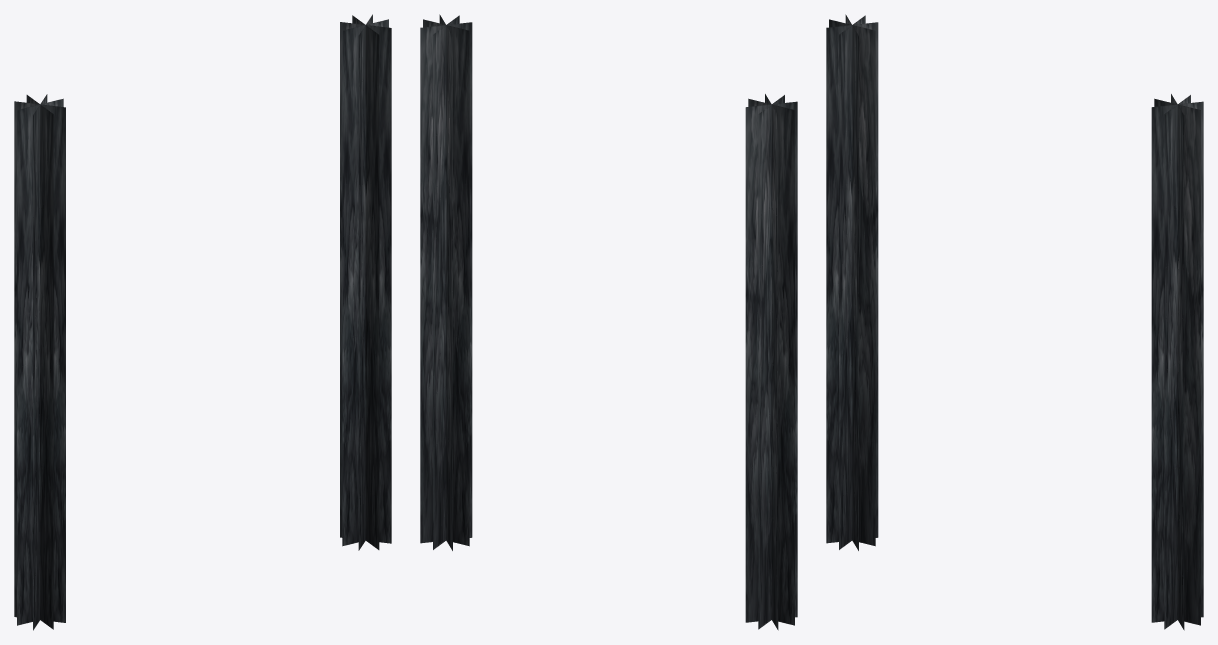
The model's file is humo.obj.
3 views of the same model, side by side, from view 1: azimuth 30°, elevation 25°; view 2: azimuth 150°, elevation 25°; view 3: azimuth 330°, elevation 25° (orthographic).
Parts seen in each view (by area): view 1: humo; view 2: humo; view 3: humo.
Boxes of the visible parts, bbox=[...] form: humo: bbox=[14, 14, 391, 630]; humo: bbox=[420, 14, 797, 630]; humo: bbox=[826, 14, 1203, 630].
Bounding box in the file's own units: 2.62 × 3.47 × 0.3278.
Materials: 1 (1 with a texture image).
